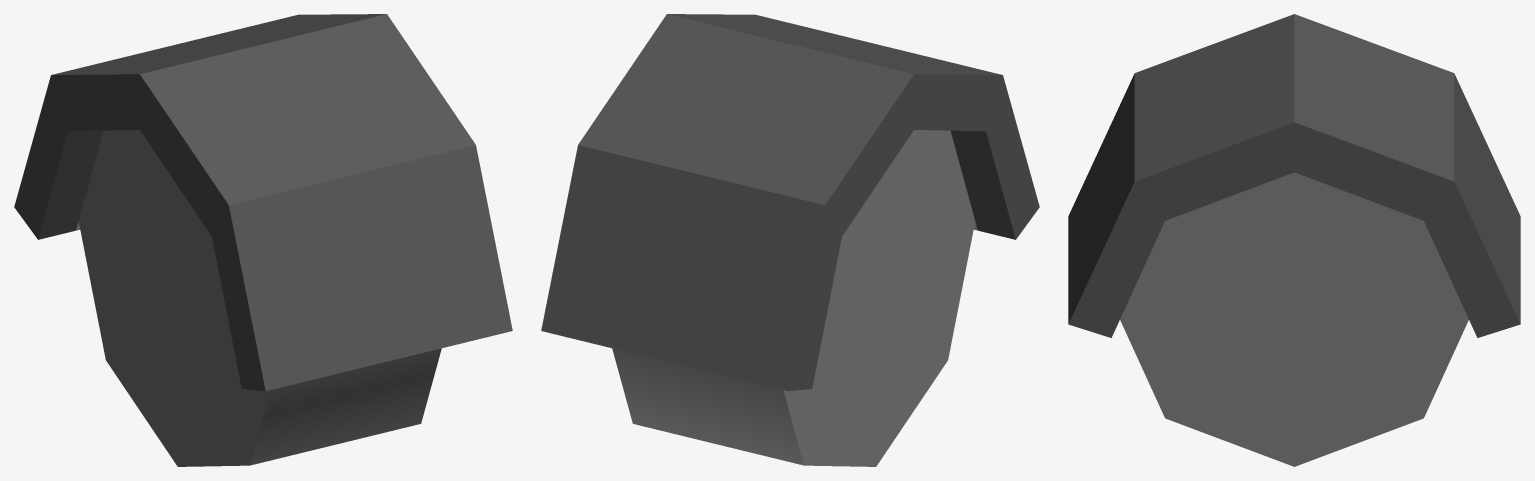
Rendered from Chair_Office_Wheel_Copy_002.fbx.
3 views of the same model, side by side, from view 1: azimuth 30°, elevation 25°; view 2: azimuth 150°, elevation 25°; view 3: azimuth 270°, elevation 25° (orthographic). The views are drawn at different scales.
Parts seen in each view (by area): view 1: Chair_Office_Wheel Copy.002; view 2: Chair_Office_Wheel Copy.002; view 3: Chair_Office_Wheel Copy.002.
Part boxes in pixels (x1=…): Chair_Office_Wheel Copy.002: x1=14, y1=14, x2=512, y2=466; Chair_Office_Wheel Copy.002: x1=541, y1=14, x2=1039, y2=466; Chair_Office_Wheel Copy.002: x1=1068, y1=14, x2=1520, y2=466.
Bounding box in the file's own units: 6.11 × 9.5 × 10.78.
